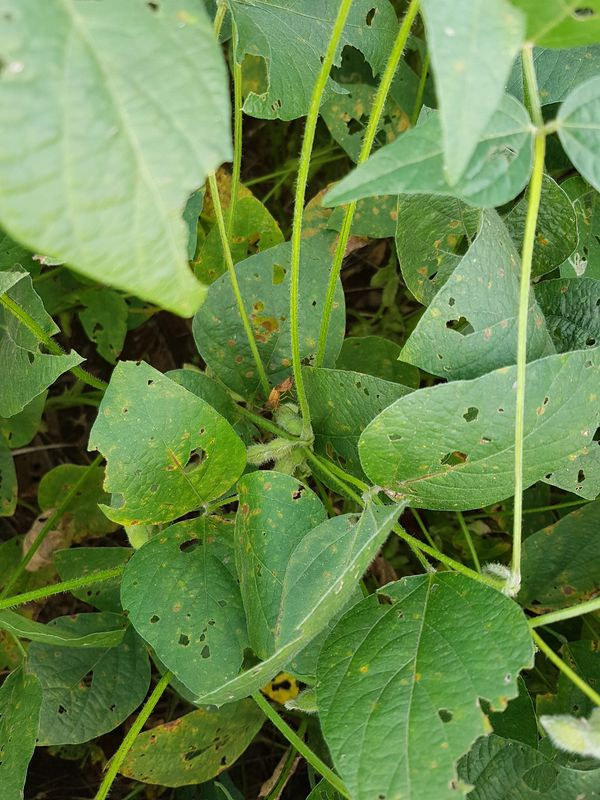Euschistus_heros_adulto: (277, 370, 305, 396), (257, 386, 279, 416)
